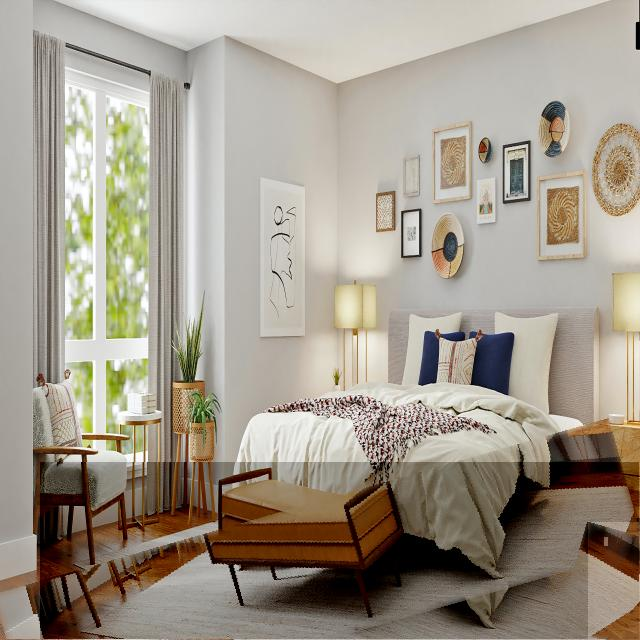floor: (40, 462, 639, 640), (589, 523, 640, 640), (605, 537, 608, 546)
